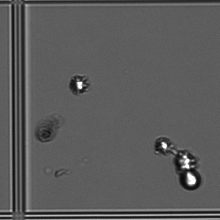Dead Cell: (32, 122, 58, 155)
Living Cell: (180, 156, 205, 198), (70, 74, 94, 93), (155, 128, 170, 156)
